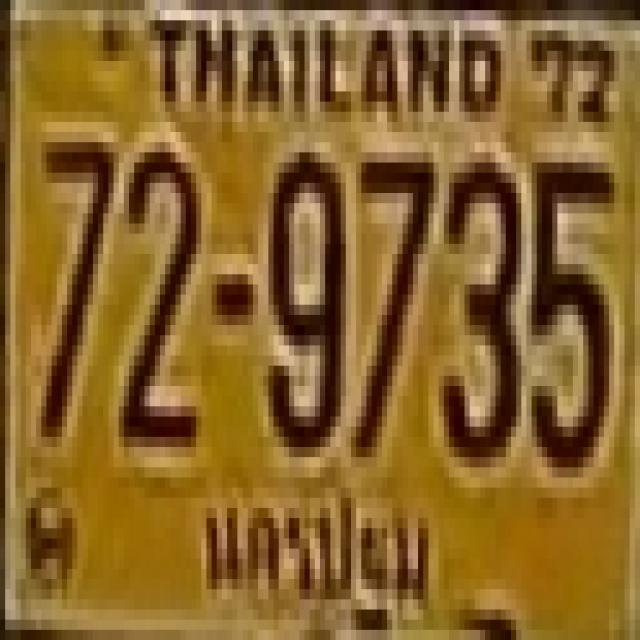2: (119, 142, 196, 437)
3: (439, 152, 516, 458)
5: (526, 152, 609, 458)
7: (351, 142, 428, 447), (39, 137, 111, 432)
9: (263, 142, 341, 447)
NPT: (193, 475, 440, 636)
